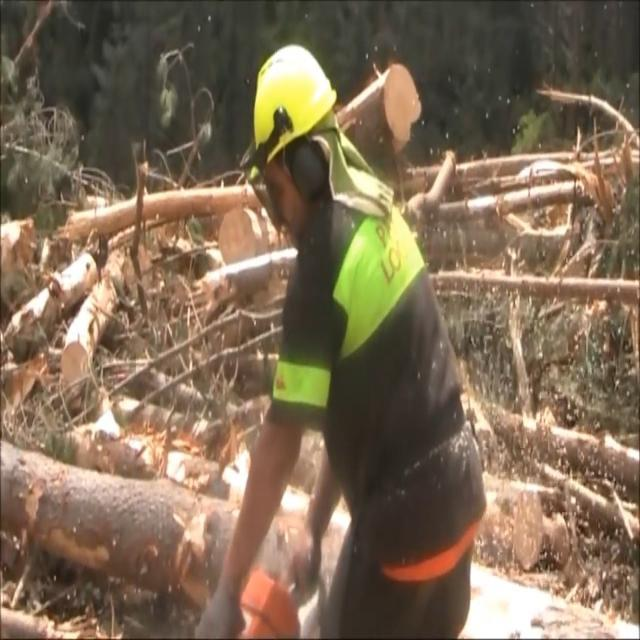Chainsaw: (209, 518, 333, 640)
